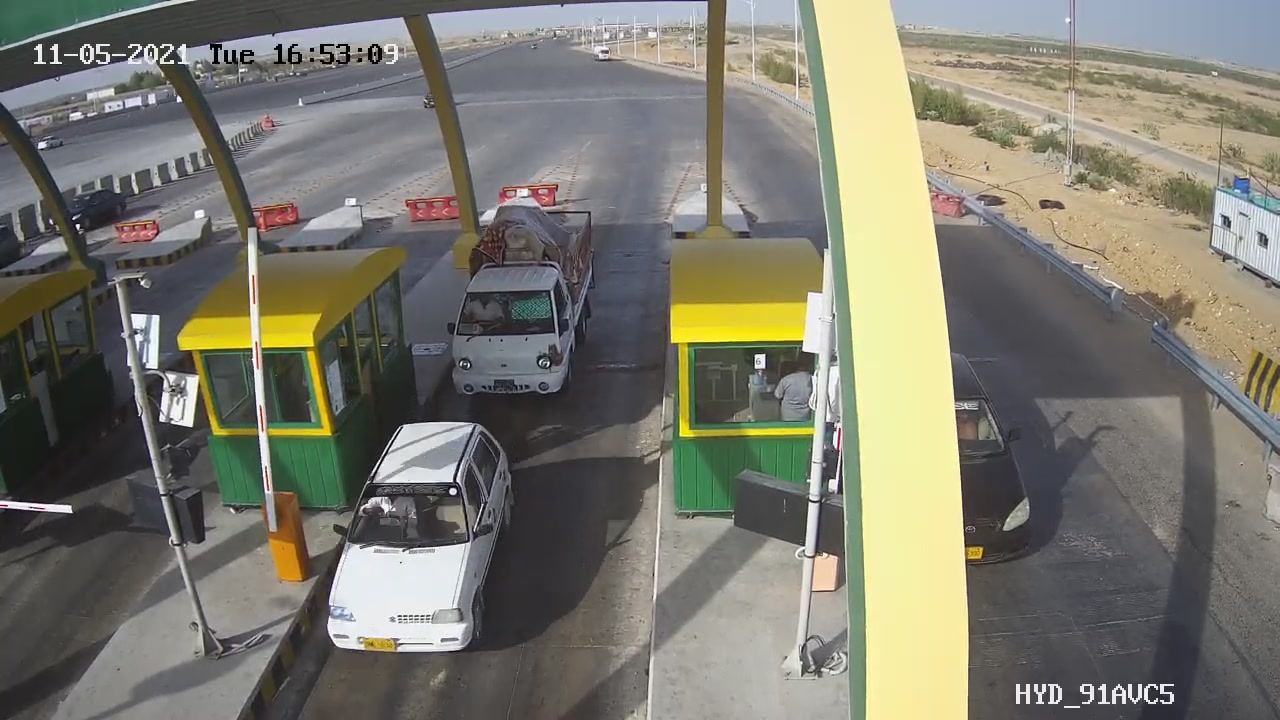F1: (315, 411, 524, 664)
F2: (435, 195, 613, 408)
